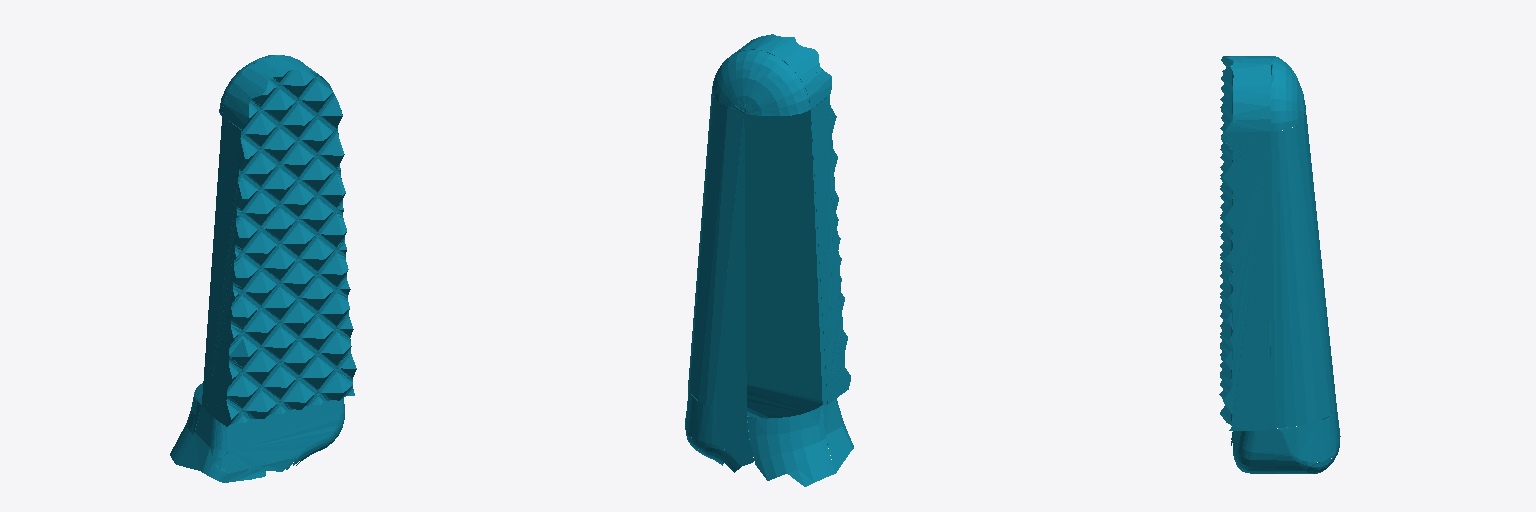
The model's file is gripper_2.obj.
The picture shows the model from 3 angles: view 1: azimuth 30°, elevation 25°; view 2: azimuth 150°, elevation 25°; view 3: azimuth 270°, elevation 25°; orthographic projection.
Parts seen in each view (by area): view 1: 330174_W01_DC_Shell; view 2: 330174_W01_DC_Shell; view 3: 330174_W01_DC_Shell.
Part boxes in pixels (bbox=[...]): 330174_W01_DC_Shell: bbox=[170, 55, 356, 482]; 330174_W01_DC_Shell: bbox=[685, 34, 853, 486]; 330174_W01_DC_Shell: bbox=[1219, 56, 1340, 473].
Size of the model in its own units: 0.0921 by 0.2382 by 0.0655.